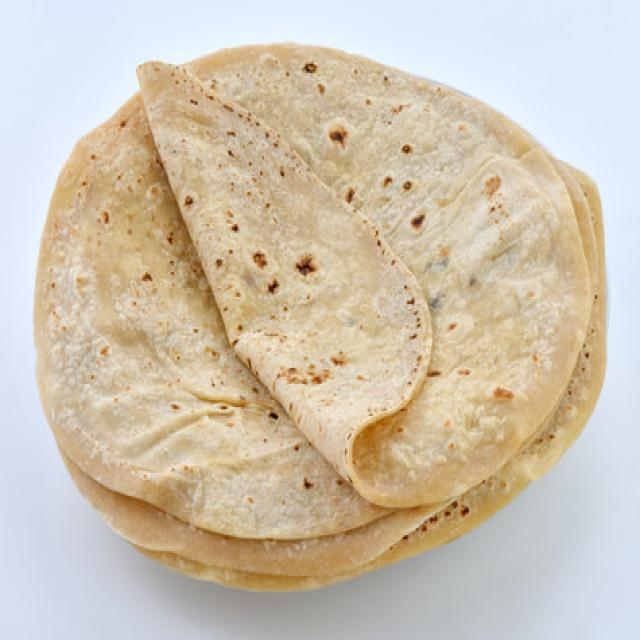ROTI: (143, 66, 430, 475)
